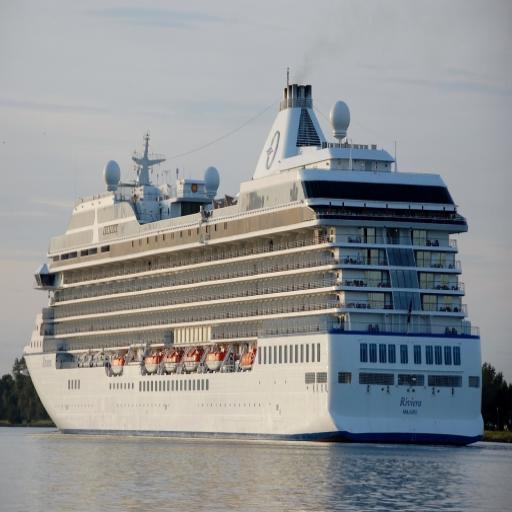cruises: (18, 58, 492, 451)
